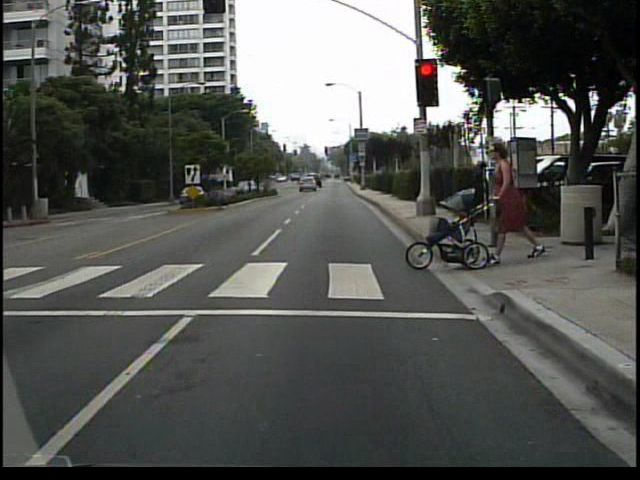person: (483, 140, 545, 268)
